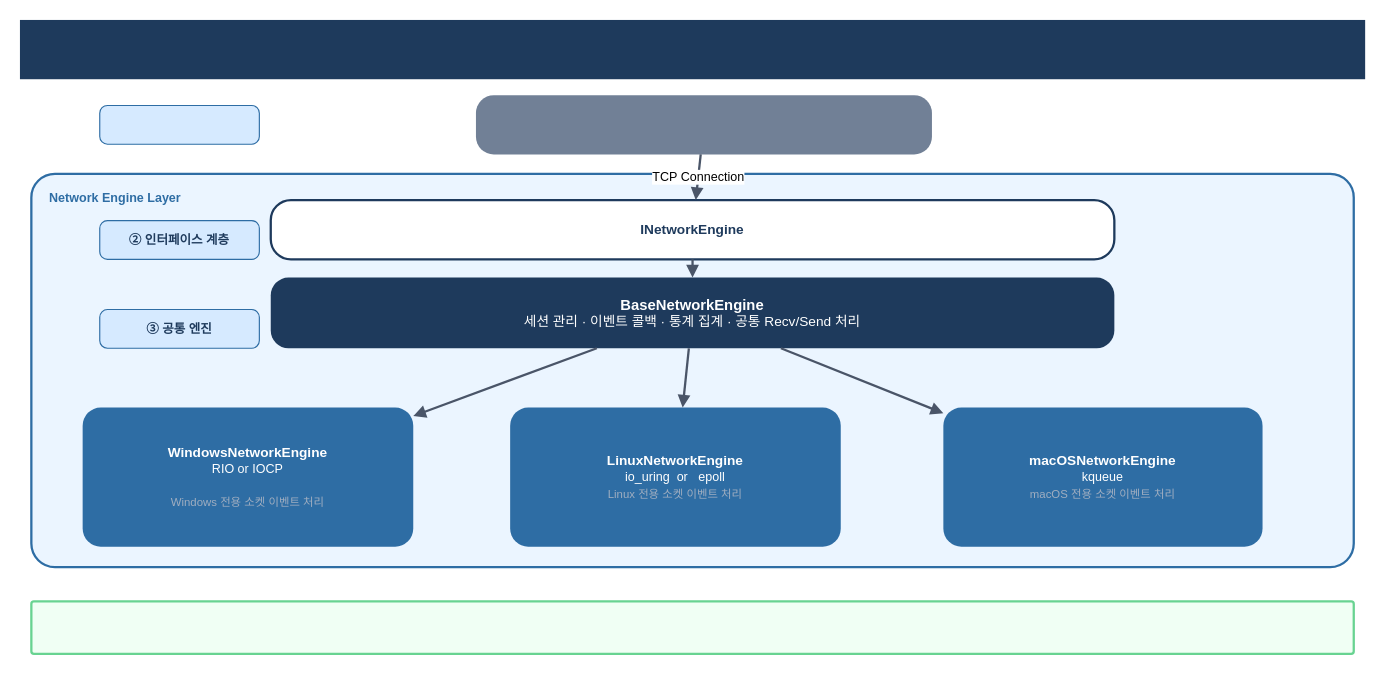
Some shapes in this 1384 by 674 pixel diagram are drawn without their labels. Each missing label, with the centre of its shape:
Client App / TestClient: point 703,124
ServerEngine Architecture Overview: point 692,49
① 클라이언트: point 179,124
✅ 핵심 포인트: 플랫폼마다 다른 엔진을 자동 선택해 최적 성능을 냅니다. 사용하는 코드는 항상 INetworkEngine 하나만 봅니다.: point 692,627
